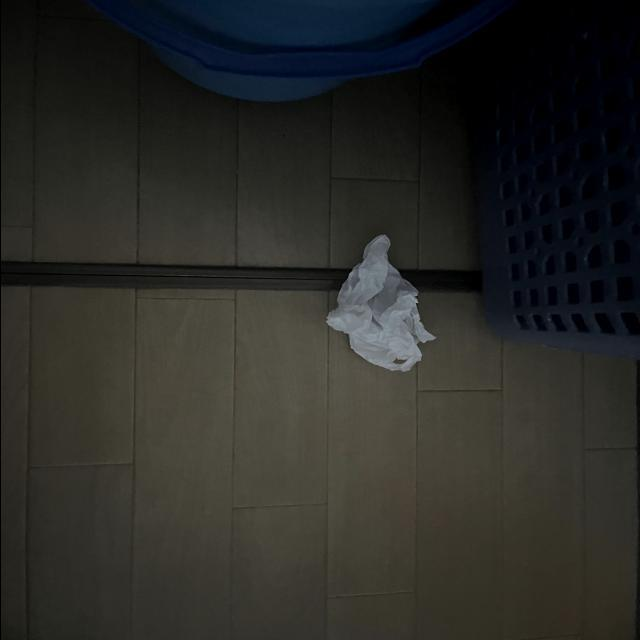Paper: (307, 230, 454, 401)
